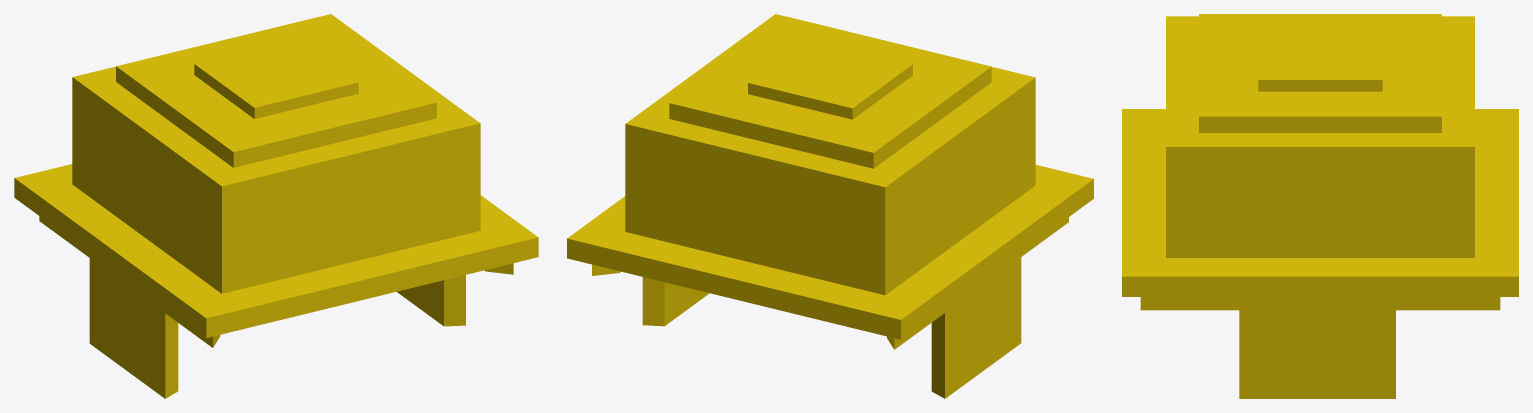
Rendered from h_helmet.fbx.
The picture shows the model from 3 angles, left to right: view 1: azimuth 30°, elevation 25°; view 2: azimuth 150°, elevation 25°; view 3: azimuth 270°, elevation 25°; orthographic projection. The views are drawn at different scales.
Parts seen in each view (by area): view 1: construction_helmet; view 2: construction_helmet; view 3: construction_helmet.
Part boxes in pixels (x1,y1,x2,y2): construction_helmet: (14,14,538,398); construction_helmet: (567,14,1093,398); construction_helmet: (1122,14,1518,398).
Size of the model in its own units: 62.09 by 46.5 by 62.09.
